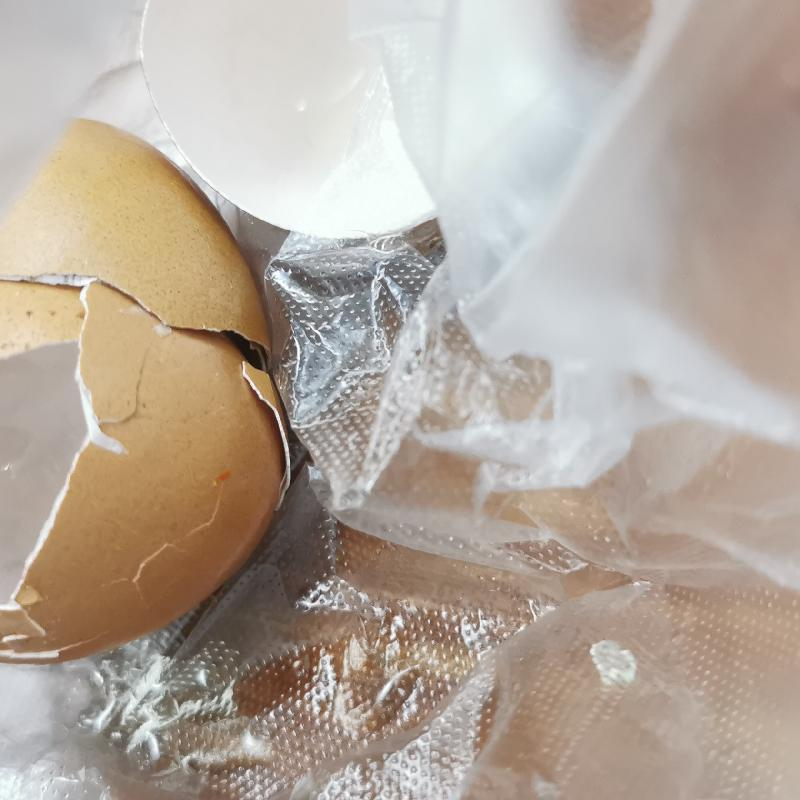eggshell: (9, 123, 293, 666)
